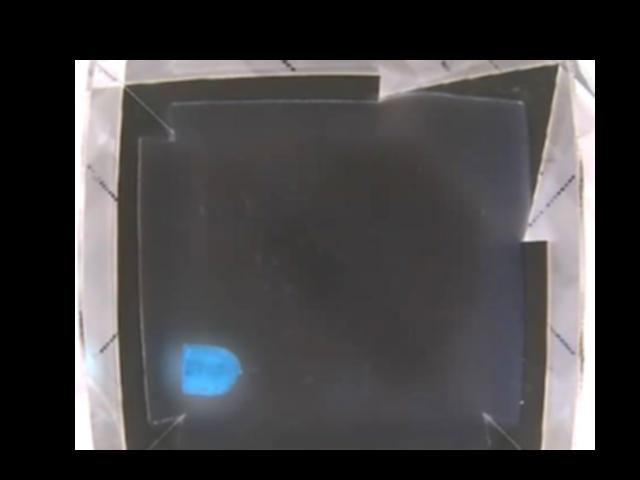Carrot: (178, 344, 240, 395)
